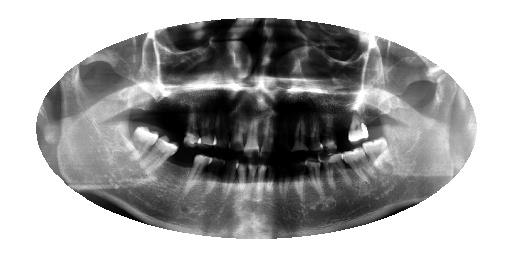Cavity: (241, 114, 262, 159), (202, 157, 225, 197), (291, 163, 308, 209), (279, 163, 292, 214), (265, 161, 277, 204)
Fillings: (140, 134, 181, 181), (126, 124, 160, 165), (350, 97, 374, 145)
